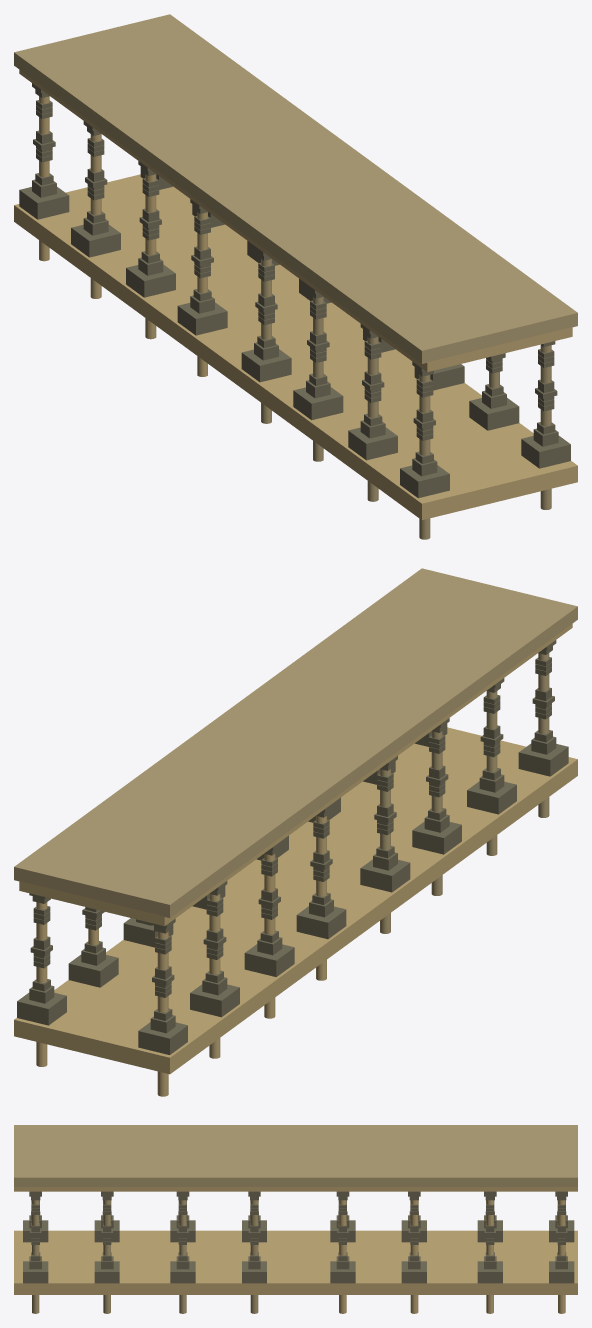
File: dsn.blender1112.fbx
3 renders of one model, top to bottom at view 1: azimuth 30°, elevation 25°; view 2: azimuth 150°, elevation 25°; view 3: azimuth 270°, elevation 25°, orthographic. The views are drawn at different scales.
Visible parts, largest first — view 1: Cube.241, Cube.242, Cube.240, Cube.031, Cube.211, Cube.076, Cube.001, Cube.121, Cube.061, Cube.106, Cube.151, Cube.091 (+7 smaller); view 2: Cube.241, Cube.242, Cube.240, Cube.091, Cube.166, Cube.181, Cube.001, Cube.211, Cube.136, Cube.031, Cube.061, Cube.121 (+9 smaller); view 3: Cube.241, Cube.242, Cube.240, Cube.046, Cube.226, Cube.076, Cube.106, Cube.136, Cube.166, Cube.196, Cube.005, Cylinder.001 (+15 smaller).
Part boxes in pixels (left/top/right/bottom): Cube.241: left=14, top=14, right=577, bottom=363; Cube.242: left=14, top=174, right=577, bottom=520; Cube.240: left=19, top=70, right=572, bottom=372; Cube.031: left=293, top=387, right=343, bottom=420; Cube.211: left=177, top=302, right=227, bottom=335; Cube.076: left=469, top=398, right=519, bottom=430; Cube.001: left=241, top=349, right=291, bottom=382; Cube.121: left=19, top=187, right=69, bottom=219; Cube.061: left=348, top=427, right=397, bottom=460; Cube.106: left=521, top=435, right=570, bottom=468; Cube.151: left=71, top=224, right=120, bottom=257; Cube.091: left=400, top=465, right=449, bottom=498; Cube.241: left=14, top=568, right=577, bottom=917; Cube.242: left=14, top=727, right=577, bottom=1074; Cube.240: left=19, top=624, right=572, bottom=926; Cube.091: left=518, top=743, right=568, bottom=776; Cube.166: left=68, top=954, right=118, bottom=987; Cube.181: left=244, top=944, right=294, bottom=977; Cube.001: left=360, top=859, right=410, bottom=892; Cube.211: left=296, top=906, right=346, bottom=939; Cube.136: left=17, top=992, right=66, bottom=1025; Cube.031: left=412, top=821, right=461, bottom=854; Cube.061: left=467, top=781, right=516, bottom=814; Cube.121: left=138, top=1022, right=187, bottom=1054; Cube.241: left=14, top=1125, right=577, bottom=1186; Cube.242: left=14, top=1230, right=577, bottom=1294; Cube.240: left=14, top=1187, right=577, bottom=1191; Cube.046: left=170, top=1261, right=195, bottom=1283; Cube.226: left=330, top=1261, right=355, bottom=1283; Cube.076: left=94, top=1261, right=119, bottom=1283; Cube.106: left=23, top=1261, right=48, bottom=1283; Cube.136: left=549, top=1261, right=574, bottom=1283; Cube.166: left=477, top=1261, right=502, bottom=1283; Cube.196: left=401, top=1261, right=426, bottom=1283; Cube.005: left=242, top=1261, right=266, bottom=1283; Cylinder.001: left=250, top=1200, right=258, bottom=1313.
Size of the model in its own units: 2960 by 3670 by 13400.
